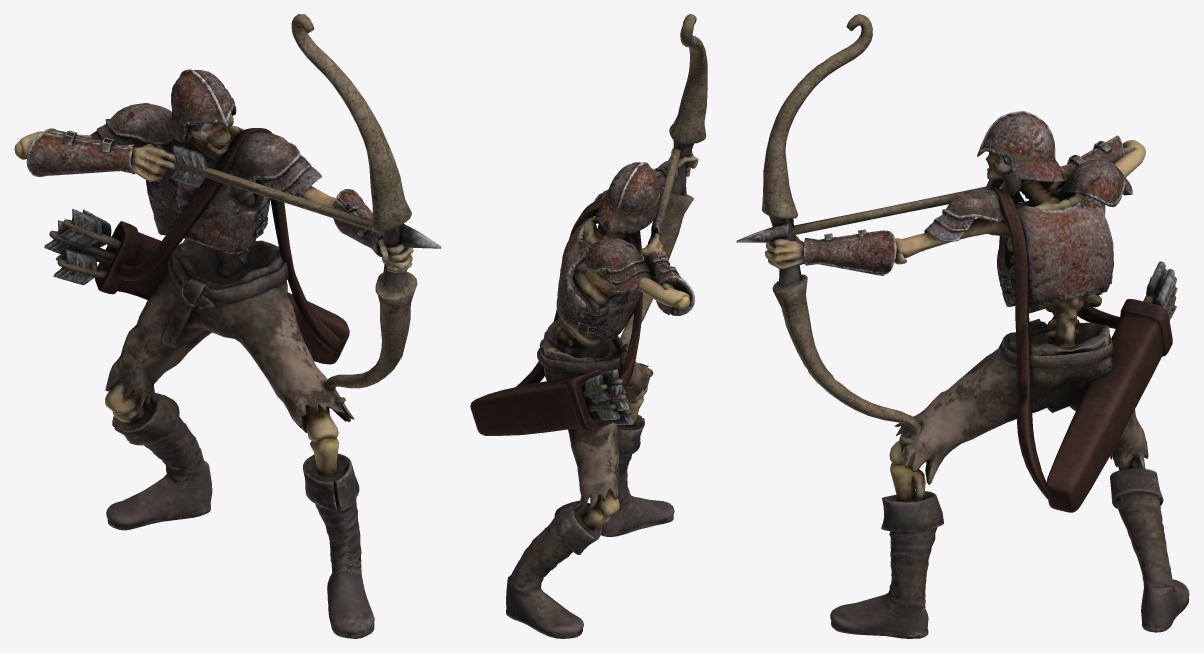
The model's file is MZ4250 - Skeleton_ranged 2025.glb.
3 views of the same model, side by side, from view 1: azimuth 30°, elevation 25°; view 2: azimuth 150°, elevation 25°; view 3: azimuth 270°, elevation 25° (orthographic). The views are drawn at different scales.
Parts seen in each view (by area): view 1: Skeleman2.001; view 2: Skeleman2.001; view 3: Skeleman2.001.
Part boxes in pixels (x1,y1,x2,y2): Skeleman2.001: (14, 14, 441, 638); Skeleman2.001: (470, 14, 707, 638); Skeleman2.001: (736, 14, 1189, 638).
Size of the model in its own units: 50.64 by 102 by 70.73.
Materials: 2 (2 with a texture image).
